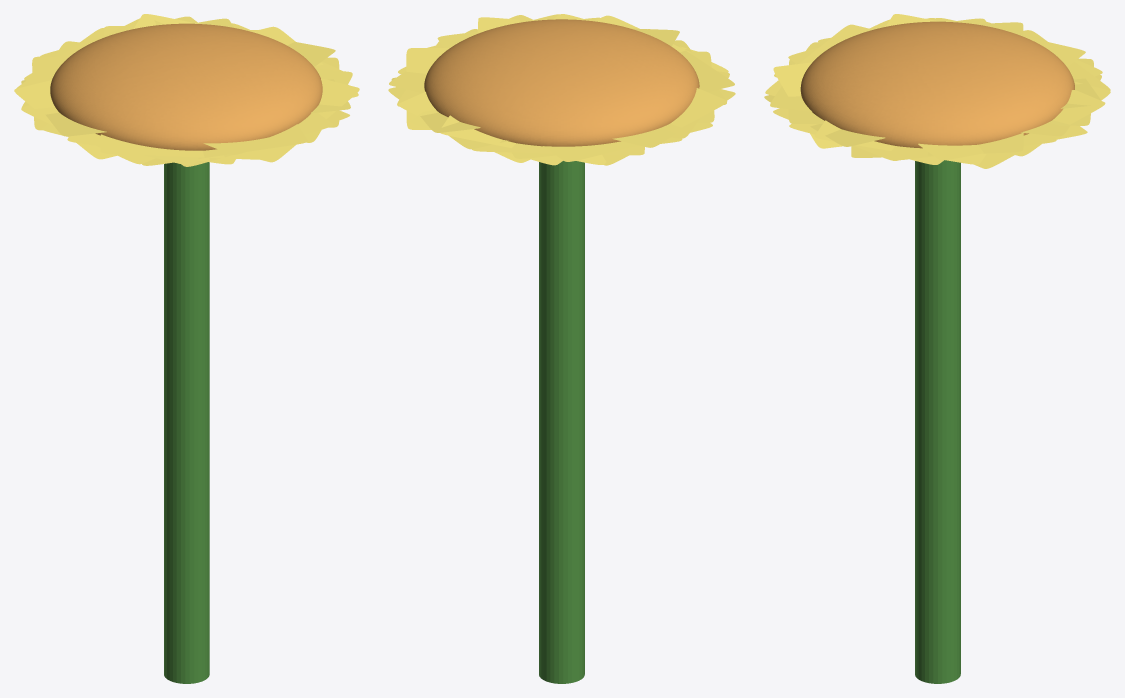
3 views of the same model, side by side, from view 1: azimuth 30°, elevation 25°; view 2: azimuth 150°, elevation 25°; view 3: azimuth 270°, elevation 25° (orthographic).
Visible parts, largest first — view 1: object 1, object 26, Plane.016, Plane.020, Plane.012, Plane.017, Plane.010, Plane.019, Plane.011, Plane.013, Plane.002, Plane.018; view 2: object 1, object 26, Plane.011, Plane.010, Plane.002, Plane.016, Plane.007, Plane.008, Plane.012, Plane.005, Plane.003, Plane; view 3: object 1, object 26, Plane.003, Plane.019, Plane.002, Plane, Plane.016, Plane.023, Plane.020, Plane.021, Plane.010, Plane.017 (+1 smaller).
Part boxes in pixels (<box>): object 1: <box>50,23,322,150</box>; object 26: <box>164,162,209,683</box>; Plane.016: <box>100,134,272,159</box>; Plane.020: <box>260,79,359,162</box>; Plane.012: <box>14,80,116,159</box>; Plane.017: <box>142,124,307,165</box>; Plane.010: <box>32,56,69,130</box>; Plane.019: <box>203,110,349,154</box>; Plane.011: <box>21,80,106,136</box>; Plane.013: <box>21,105,155,164</box>; Plane.002: <box>287,42,335,66</box>; Plane.018: <box>181,112,332,166</box>; object 1: <box>424,19,699,146</box>; object 26: <box>539,161,584,683</box>; Plane.011: <box>602,88,727,165</box>; Plane.010: <box>543,123,712,161</box>; Plane.002: <box>406,48,449,129</box>; Plane.016: <box>648,29,734,92</box>; Plane.007: <box>440,115,606,164</box>; Plane.008: <box>472,143,644,155</box>; Plane.012: <box>612,89,735,147</box>; Plane.005: <box>398,91,530,162</box>; Plane.003: <box>391,77,480,132</box>; Plane: <box>389,29,477,92</box>; object 1: <box>800,21,1074,148</box>; object 26: <box>915,160,960,683</box>; Plane.003: <box>974,90,1105,168</box>; Plane.019: <box>773,62,842,148</box>; Plane.002: <box>918,125,1087,160</box>; Plane: <box>851,133,1023,157</box>; Plane.016: <box>765,24,872,95</box>; Plane.023: <box>814,120,986,164</box>; Plane.020: <box>764,95,885,146</box>; Plane.021: <box>773,108,923,160</box>; Plane.010: <box>935,18,1085,66</box>; Plane.017: <box>770,42,820,111</box>.
Size of the model in its own units: 0.7568 by 1.49 by 0.7534.
